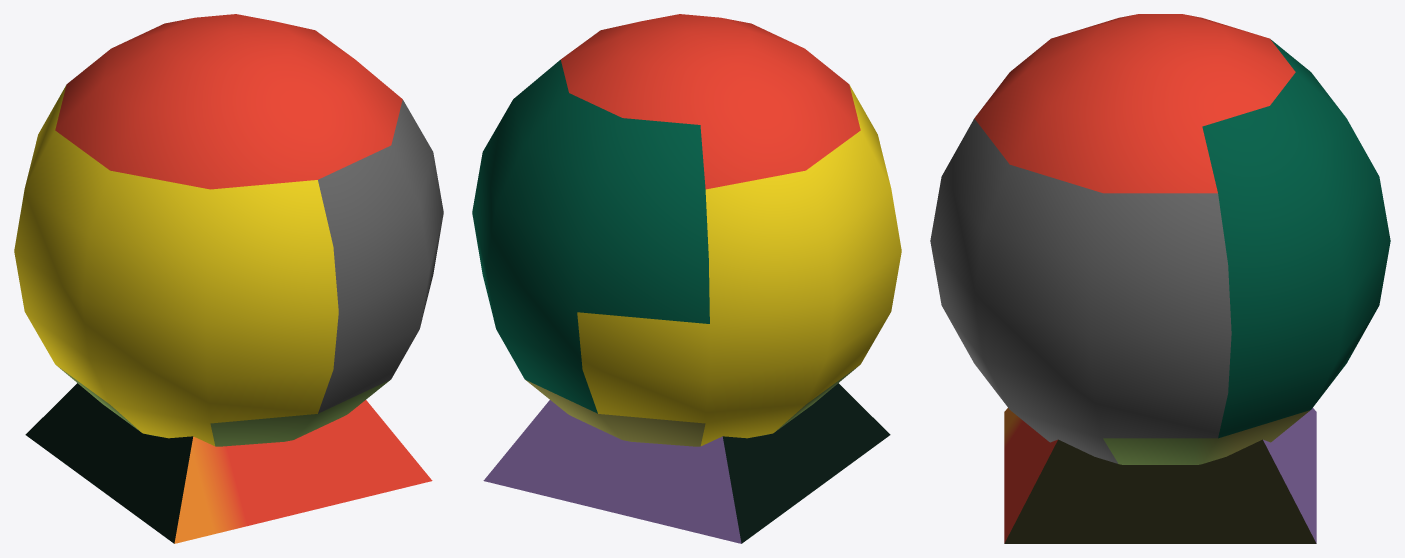
The model's file is magic_ball.fbx.
3 views of the same model, side by side, from view 1: azimuth 30°, elevation 25°; view 2: azimuth 150°, elevation 25°; view 3: azimuth 270°, elevation 25° (orthographic). The views are drawn at different scales.
Visible parts, largest first — view 1: magic_ball; view 2: magic_ball; view 3: magic_ball.
Part boxes in pixels (bbox=[...]): magic_ball: bbox=[14, 14, 443, 543]; magic_ball: bbox=[472, 14, 901, 543]; magic_ball: bbox=[930, 14, 1390, 543].
Bounding box in the file's own units: 0.2005 × 0.2251 × 0.2108.
